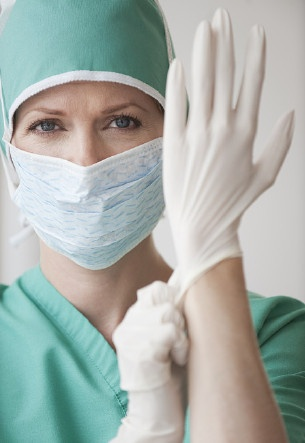Mask: (5, 94, 182, 272)
